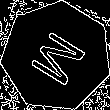M_SE: (23, 24, 90, 89)
